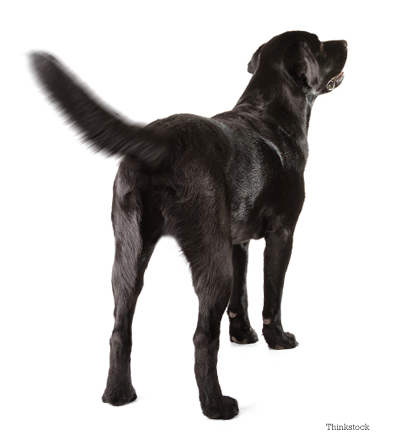tail: (17, 48, 169, 171)
